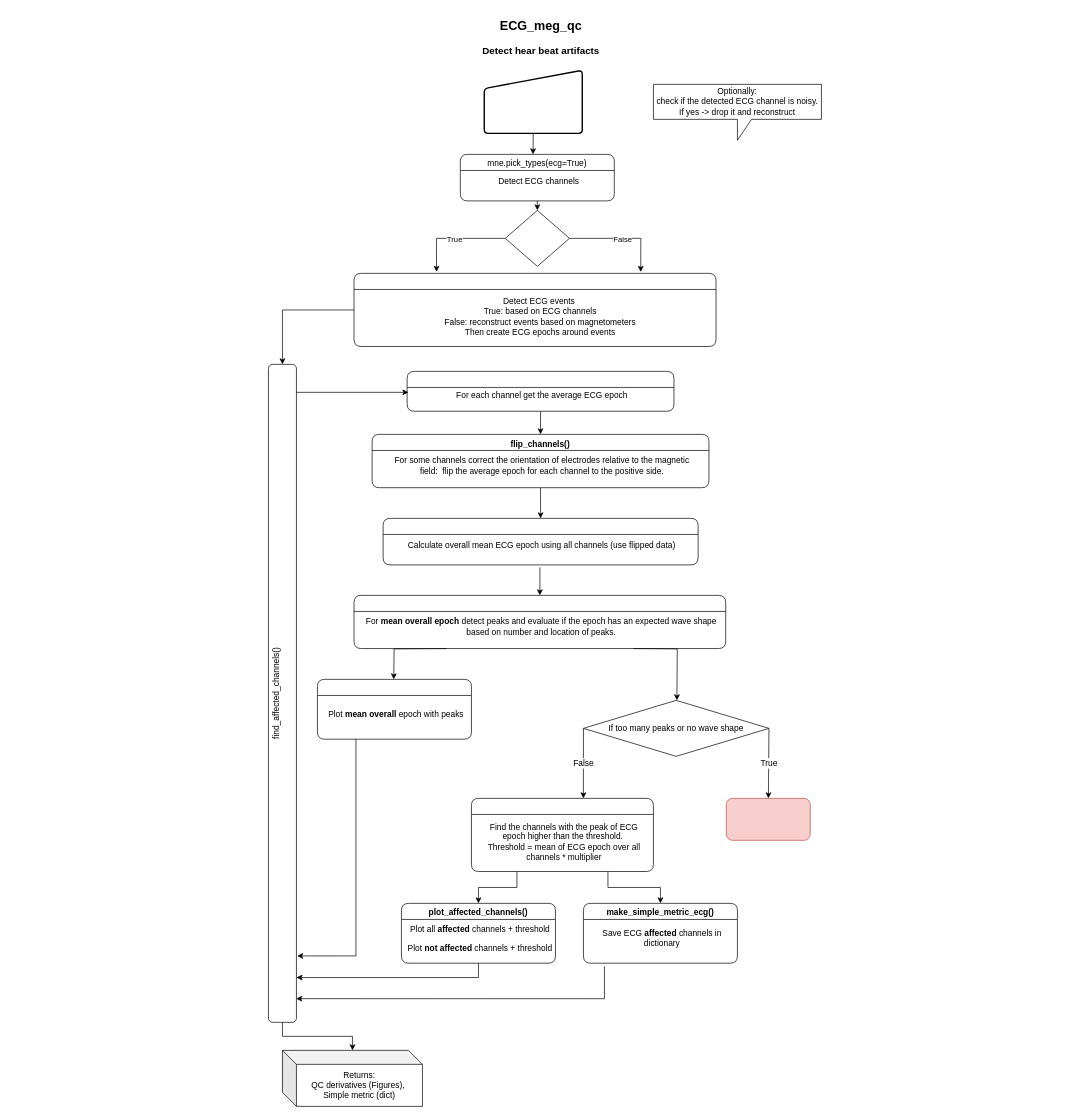
This 1081x1119 diagram has some shape labels left out. The centre of each missing label's shape, as x and y in pixels:
"detect_channels_above_norm()" goes at [562,835].
"ECG channels present" goes at [537,238].
"ecg_epochs . average()" goes at [540,391].
"find_peaks_and_detect_Rwave()" goes at [539,622].
"Input: raw data" goes at [533,101].
"mne.preprocessing. create_ecg_epochs()" goes at [534,309].
"np.mean( )" goes at [540,541].
"Pass: No further analysis" goes at [768,819].
"plot_epoch_and_peak()" goes at [394,709].
